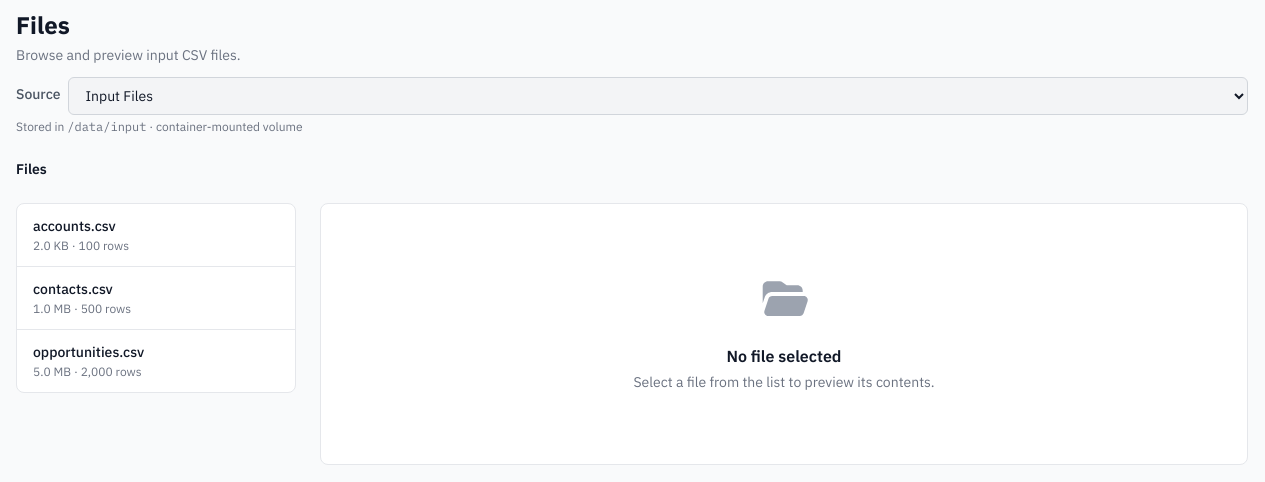
it: FilesPage › clears selected file when source changes
Click the text "accounts.csv".
click(74, 226)  # box [33,217,116,235]
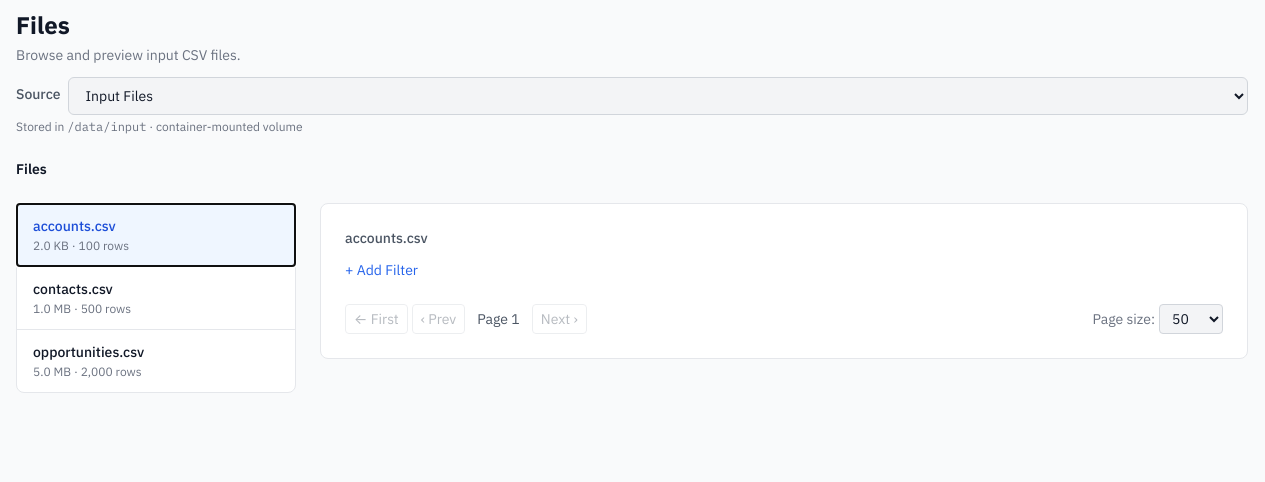
Now the heading "No file selected" is gone
Select "Production S3" in the dropdown labelled "Source" at (658, 96), box [68,77,1248,115]
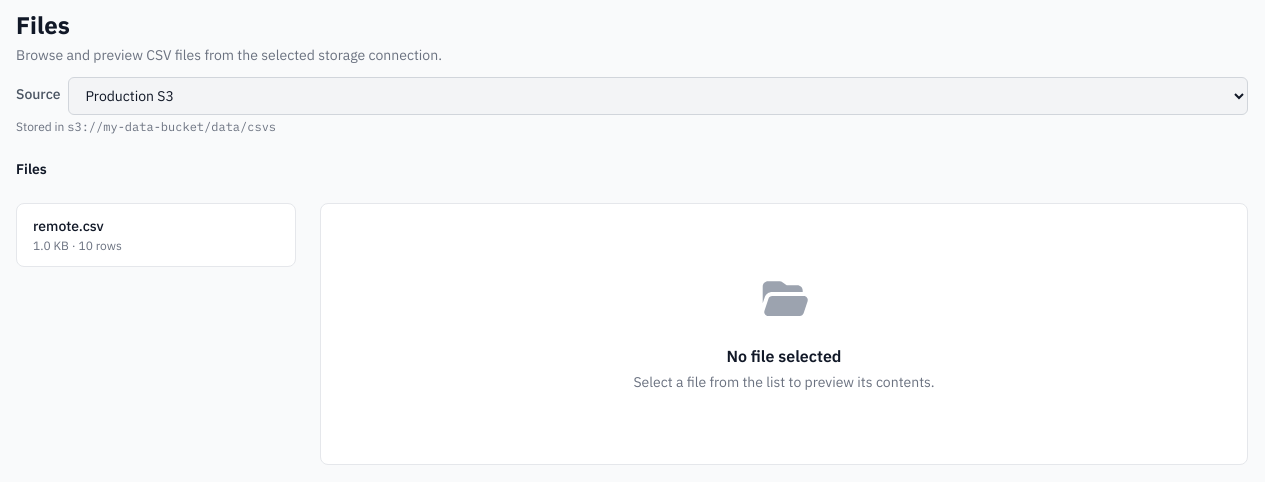
Now the heading "No file selected" is shown, box [727,344,842,368]
